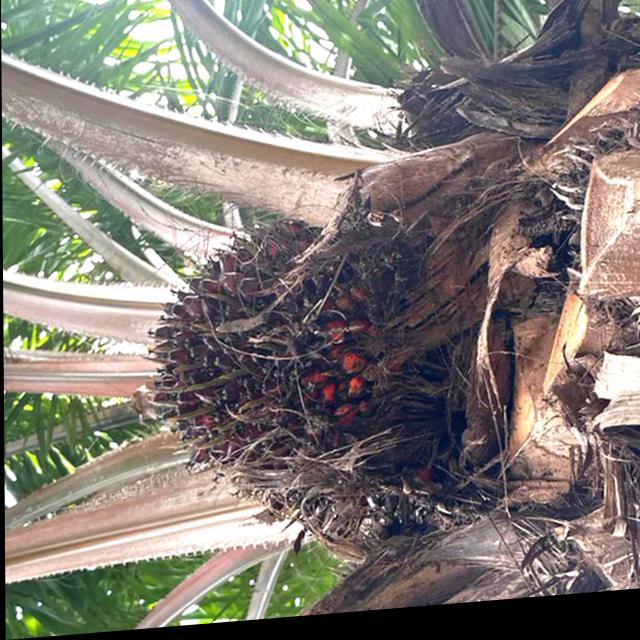ripe: (122, 187, 447, 563)
